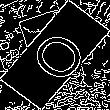O_SE: (19, 22, 91, 88)
